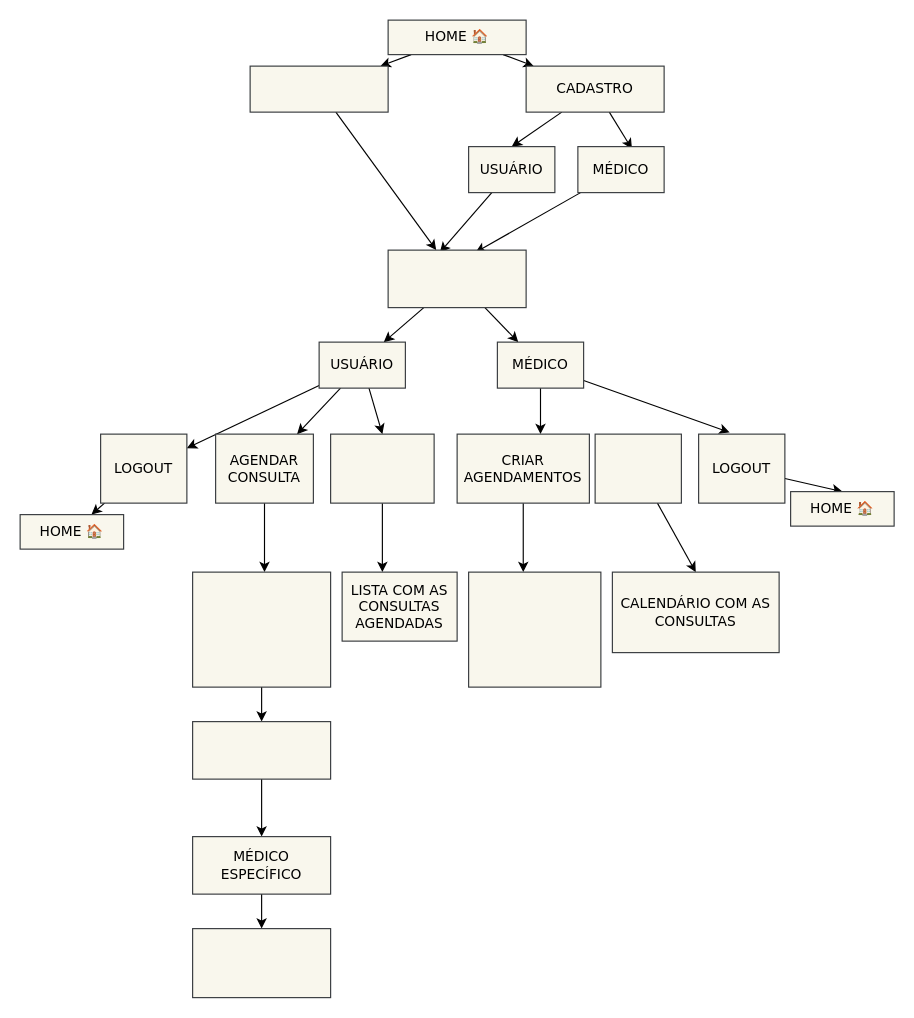
Image size: 914x1018. Some labels were removed from this diagram. Each missing label, with the box of its shape:
DASHBOARD PAGINA INTERNA: (387, 249, 526, 308)
DEFINIR HORÁRIOS, PREÇO, CONSULTORIO, MODALIDADE... DAS CONSULTAS: (467, 571, 601, 687)
LISTA DE MÉDICOS: (191, 720, 331, 779)
LOGIN: (249, 65, 388, 112)
PEQUISAR POR ESPECIALIDADE, HORÁRIO, MODALIDADE: (191, 571, 331, 687)
REALIZAR AGENDAMENTO DA CONSULTA: (191, 927, 331, 998)
VER AGENDA: (594, 433, 681, 503)
VER CONSULTAS AGENDADAS: (329, 433, 434, 503)
